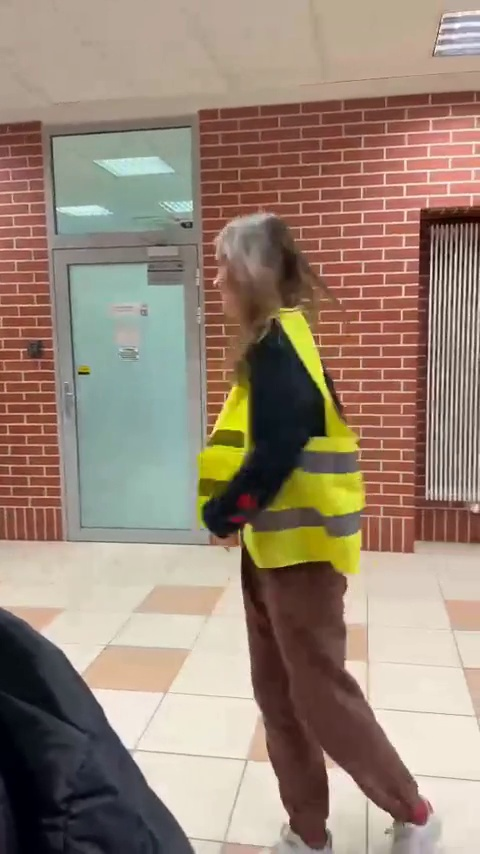vest: (192, 204, 428, 854)
